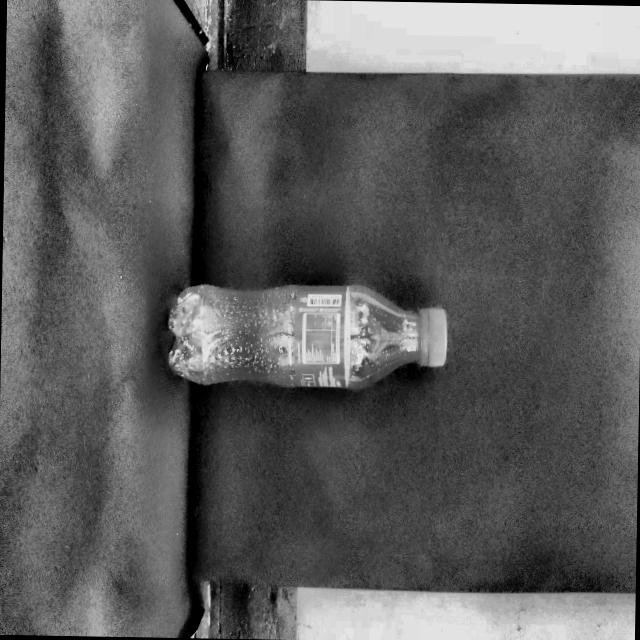Plastic-Bottle: (162, 278, 448, 394)
